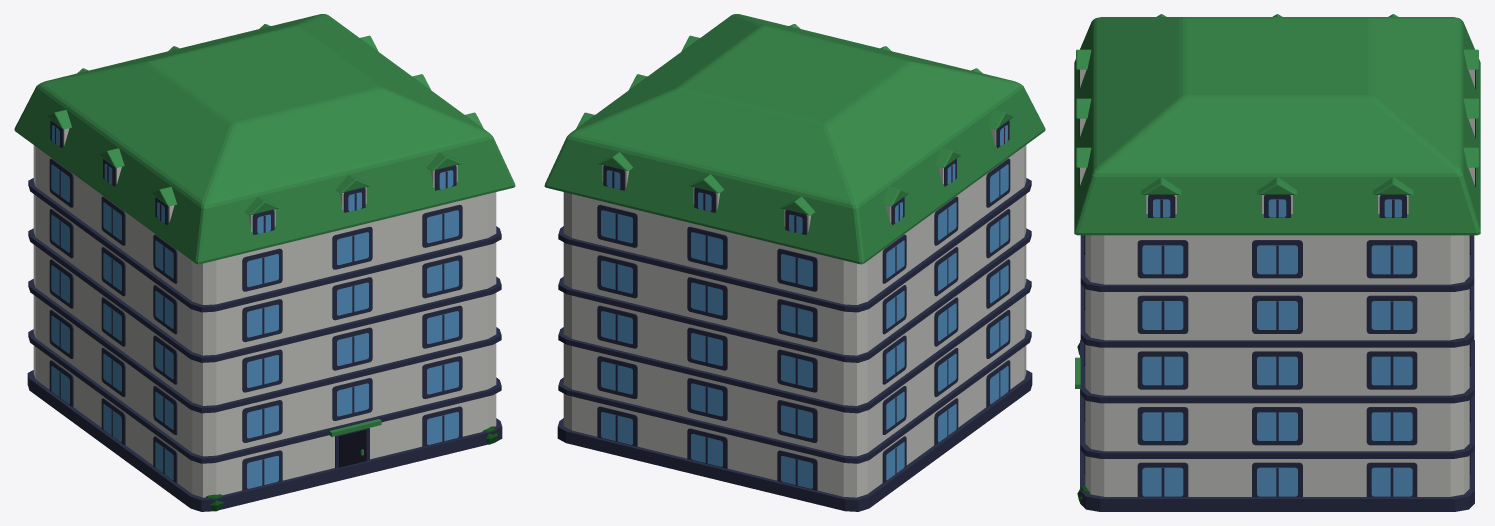
File: house-2x2-5f-mansard-a.glb
3 views of the same model, side by side, from view 1: azimuth 30°, elevation 25°; view 2: azimuth 150°, elevation 25°; view 3: azimuth 270°, elevation 25° (orthographic). The views are drawn at different scales.
Parts seen in each view (by area): view 1: house-2x2-5f-mansard-a; view 2: house-2x2-5f-mansard-a; view 3: house-2x2-5f-mansard-a.
Boxes of the visible parts, <box> form: house-2x2-5f-mansard-a: <box>14,14,515,511</box>; house-2x2-5f-mansard-a: <box>544,14,1045,511</box>; house-2x2-5f-mansard-a: <box>1074,14,1480,511</box>.
Size of the model in its own units: 1.99 by 2.01 by 1.99.
1 material, 1 textured.
